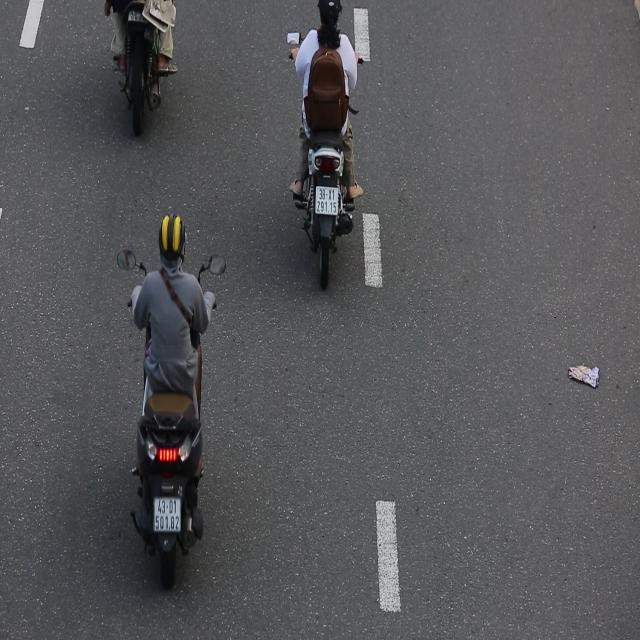motorbike: (107, 204, 220, 600), (275, 0, 368, 289)
